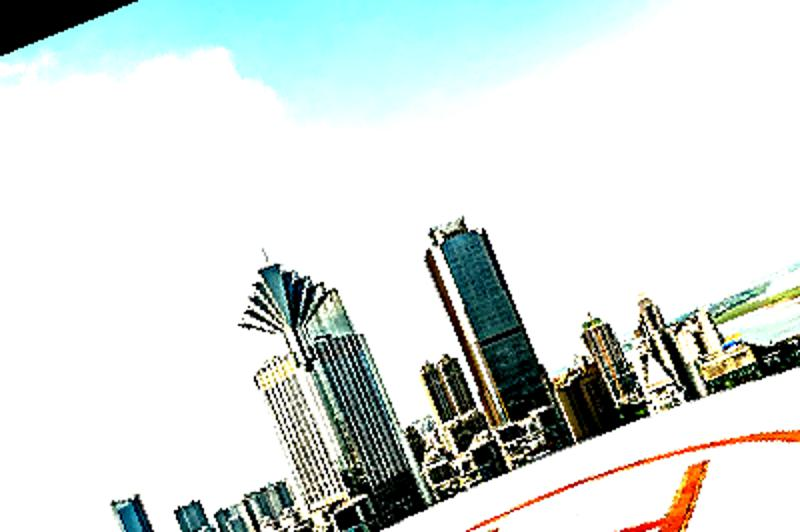Apron: (430, 422, 800, 532)
